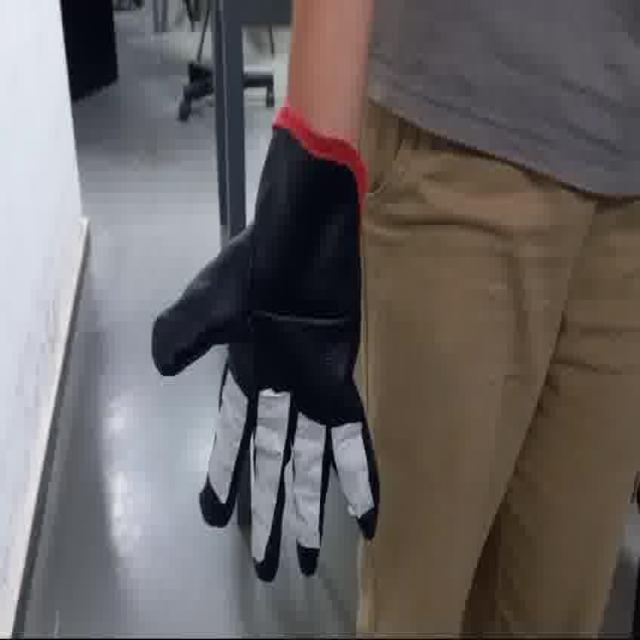Gloves: (143, 103, 398, 576)
